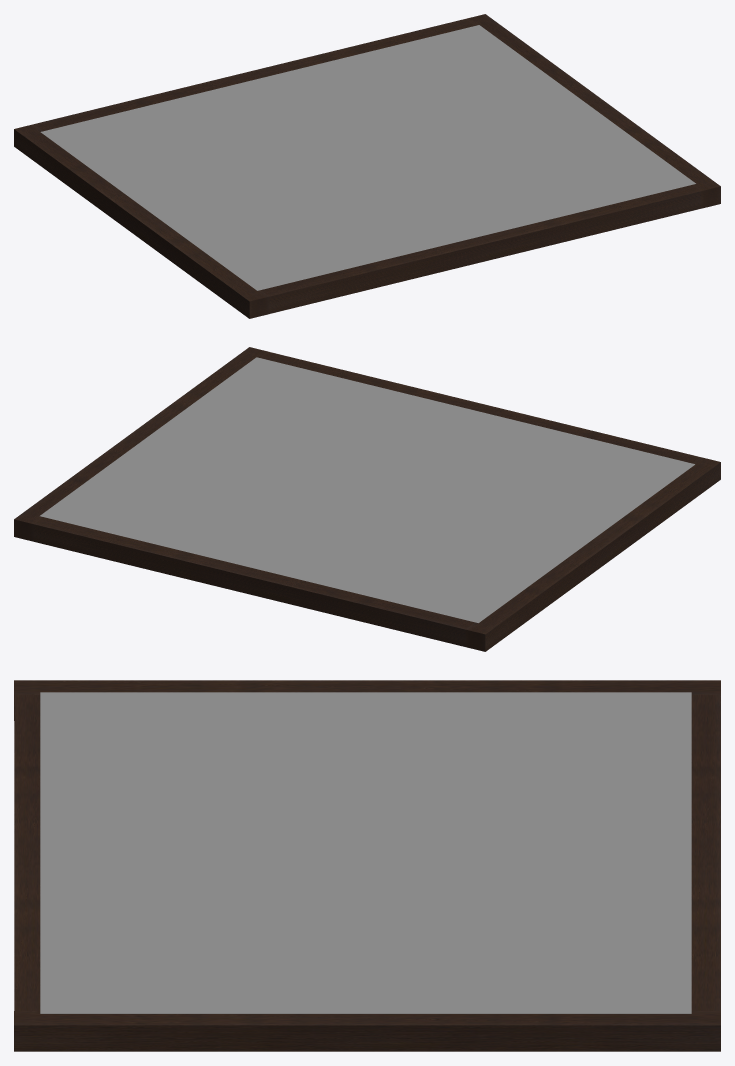
File: Ceiling.FBX
3 views of the same model, one above another, from view 1: azimuth 30°, elevation 25°; view 2: azimuth 150°, elevation 25°; view 3: azimuth 270°, elevation 25° (orthographic). The views are drawn at different scales.
Visible parts, largest first — view 1: ceiling; view 2: ceiling; view 3: ceiling.
Part boxes in pixels (<box>): ceiling: <box>14,14,720,318</box>; ceiling: <box>14,347,720,651</box>; ceiling: <box>14,680,720,1051</box>.
Size of the model in its own units: 657 by 23.46 by 569.
Materials: 2 (1 with a texture image).
